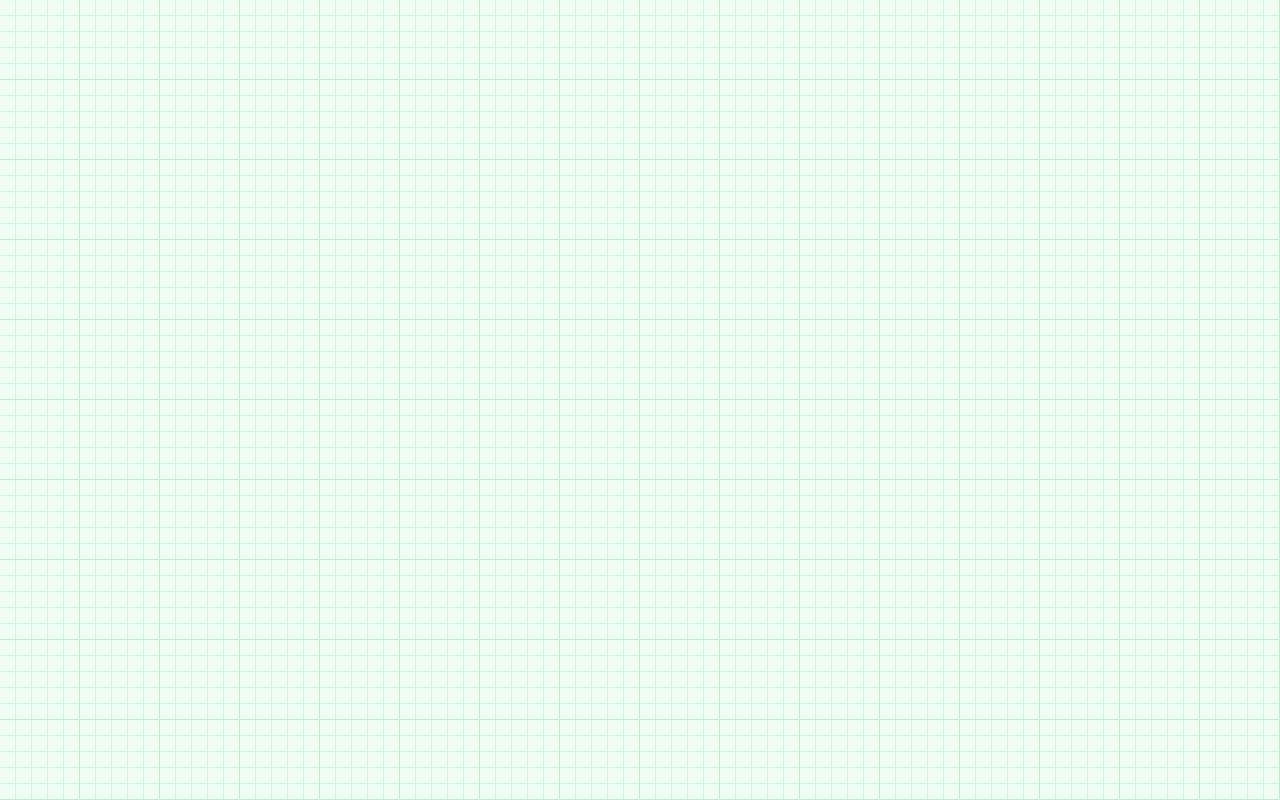
Test: <Shortcuts> and the command palette › toggles the Sound setting from the palette
The image size is (1280, 800).
Press k
(page scrolled)
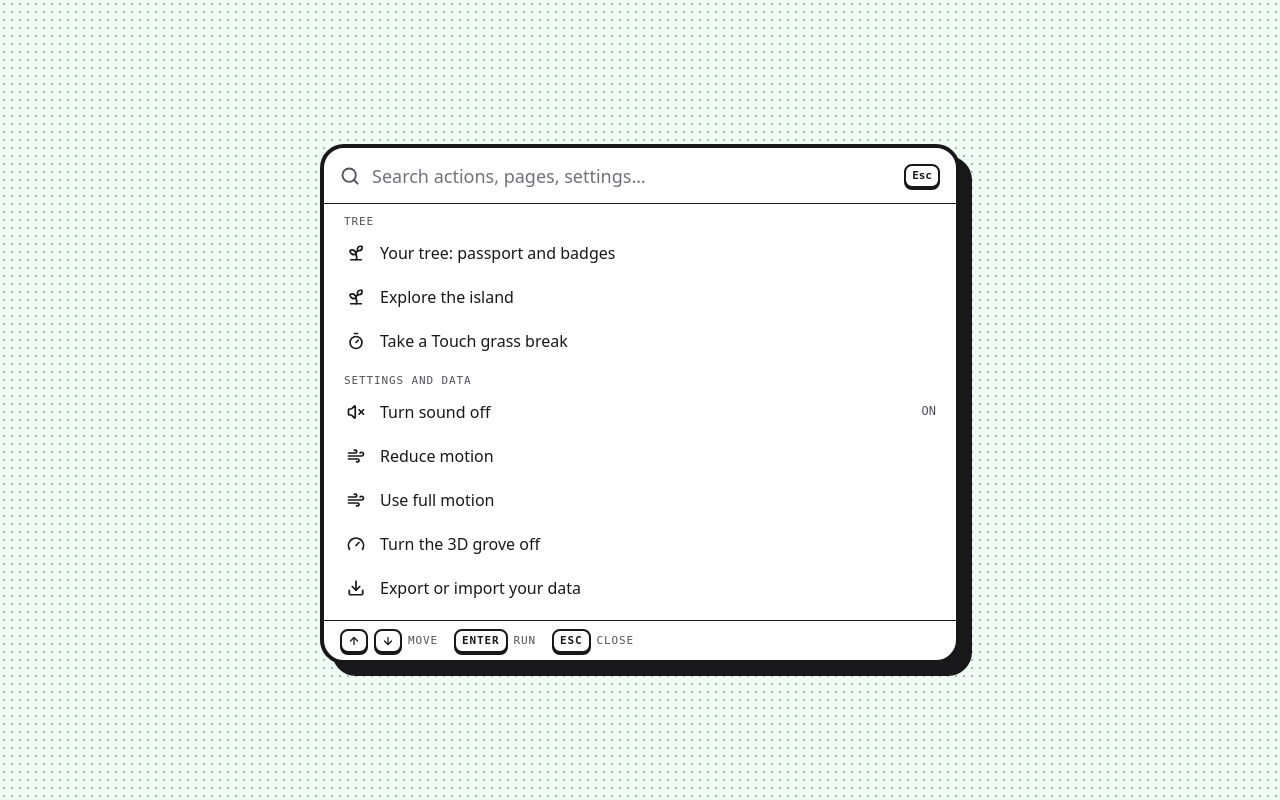
Click the option "Turn sound off ON" at point(435, 412), box [347, 401, 936, 423]
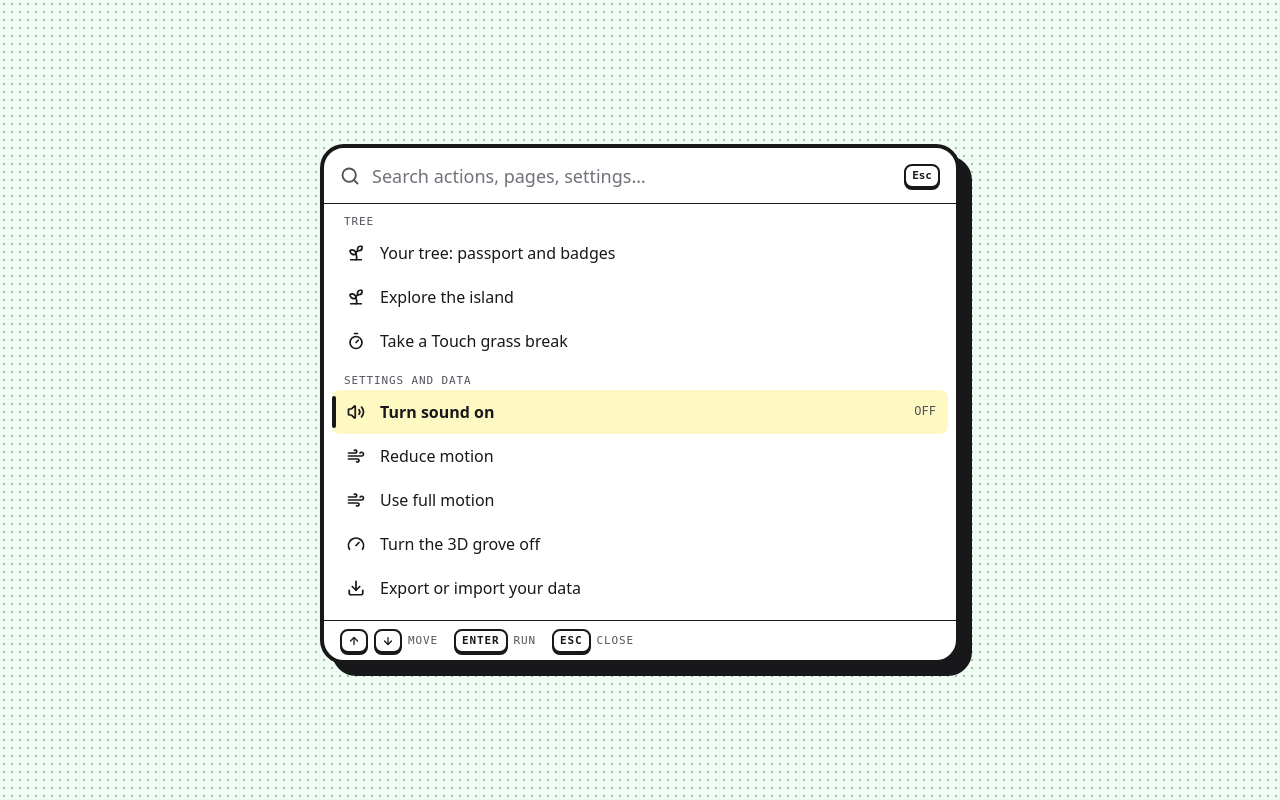
Expected: the option "Turn sound on OFF" is shown, [332, 390, 948, 434]
